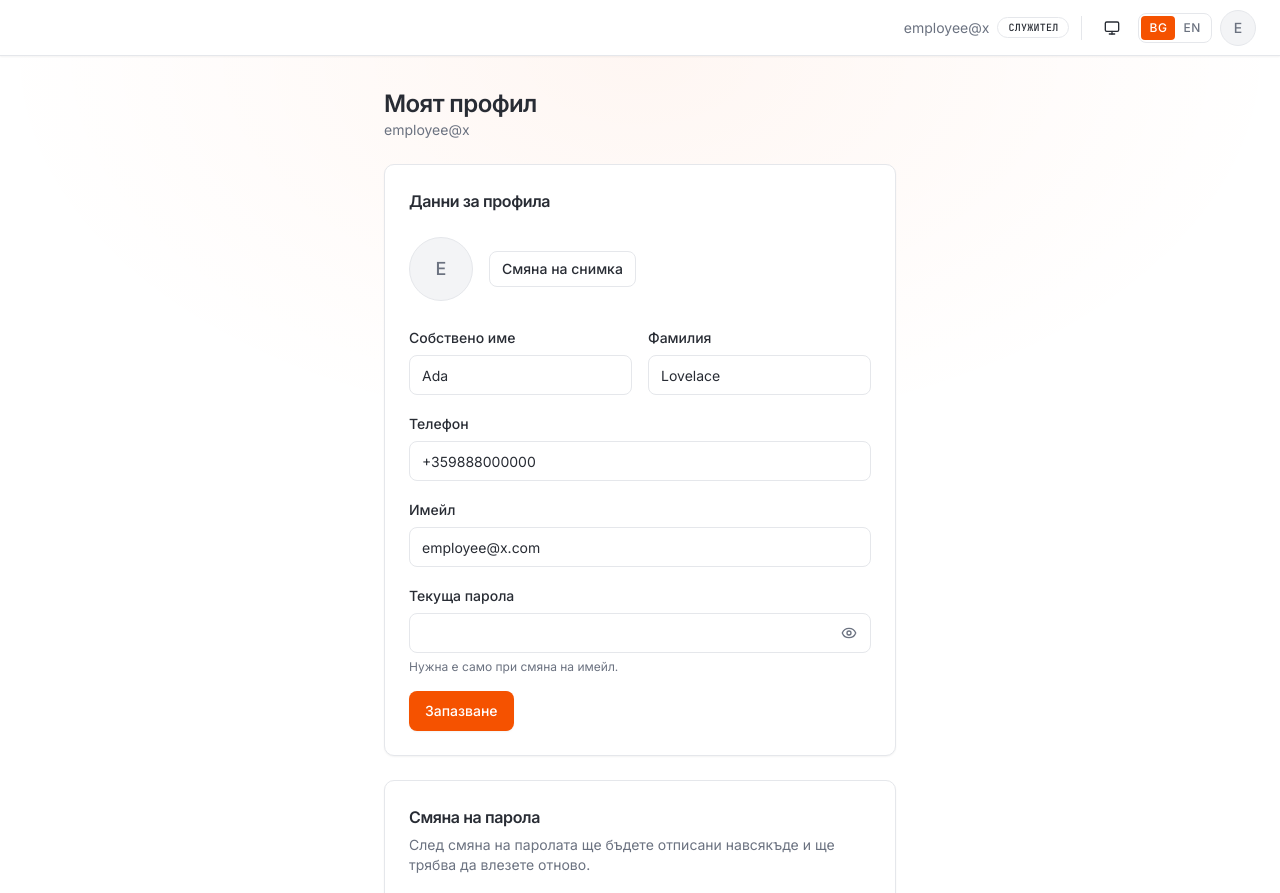
Test: ProfilePage › profile details (phone + email) › requires the current password before it will submit a changed email
The image size is (1280, 893).
Replace the text in the field labelled "Имейл" with "new@x.com". click: (640, 547)
box: [409,527,871,567]
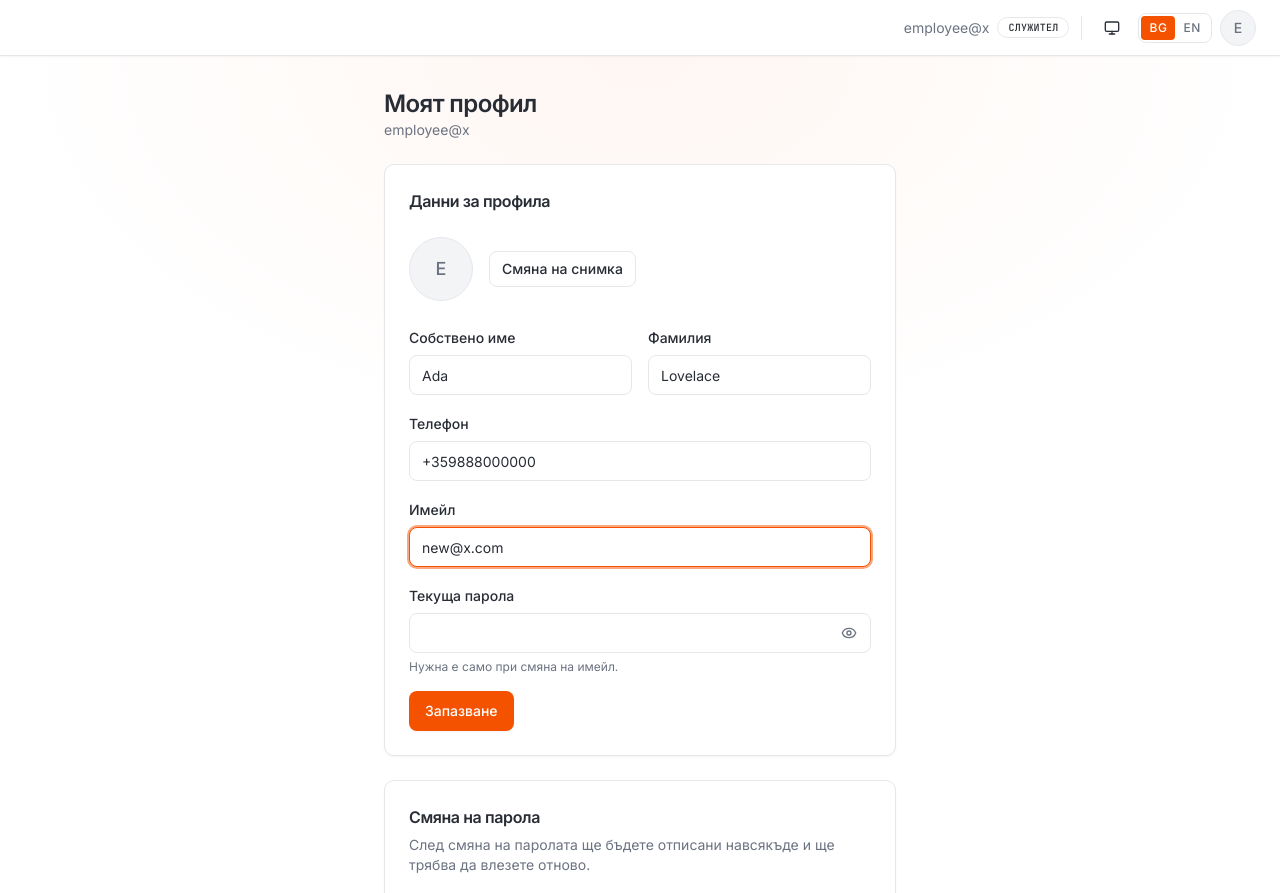
Click the button "Запазване". click: (461, 711)
box: [409,691,514,731]
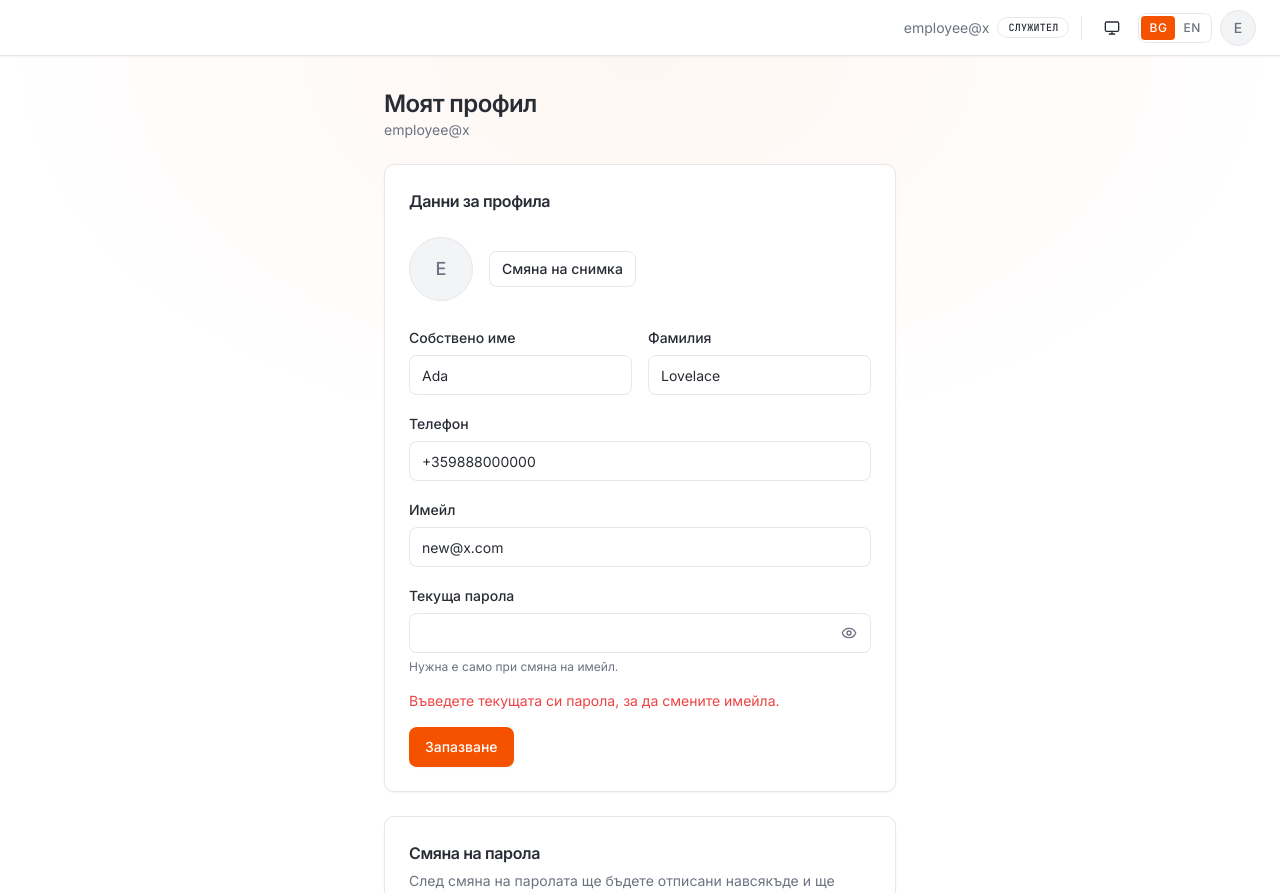
Expected: the text "Въведете текущата си парола, за да смените имейла." is shown, [409,692,780,709]
